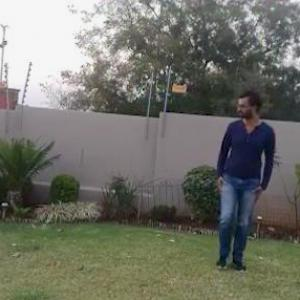follow: (213, 86, 270, 272)
